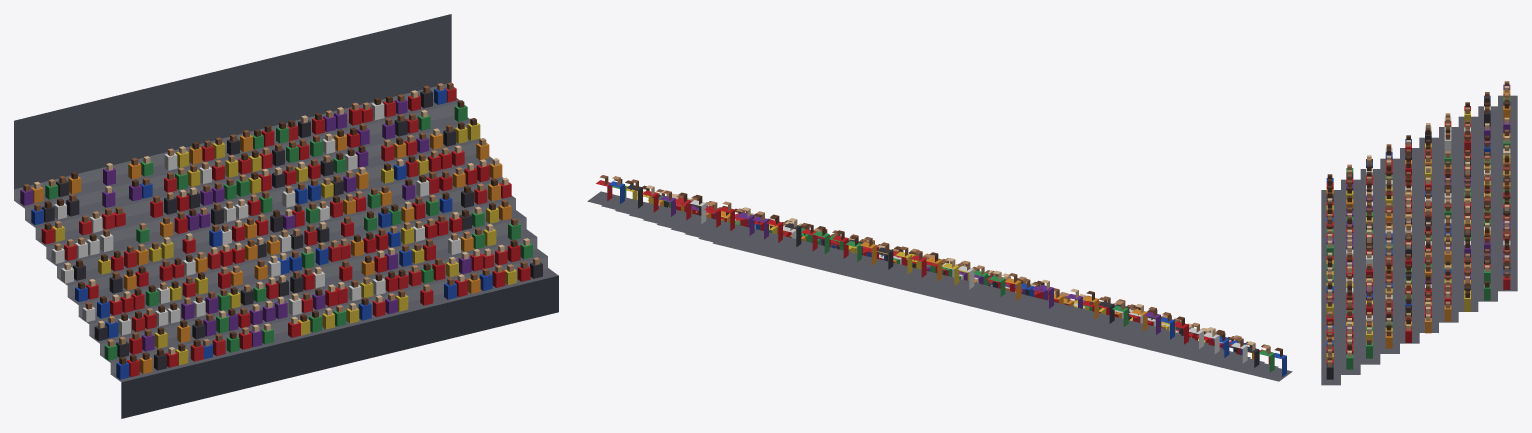
File: stand_end_a_hd.glb
The picture shows the model from 3 angles, left to right: view 1: azimuth 30°, elevation 25°; view 2: azimuth 150°, elevation 25°; view 3: azimuth 270°, elevation 25°; orthographic projection. The views are drawn at different scales.
Visible parts, largest first — view 1: stand_end_a; view 2: stand_end_a; view 3: stand_end_a.
Boxes of the visible parts, bbox=[...] form: stand_end_a: bbox=[14, 14, 558, 418]; stand_end_a: bbox=[587, 175, 1292, 381]; stand_end_a: bbox=[1321, 81, 1517, 385].
Bounding box in the file's own units: 20.01 × 10 × 8.5.
